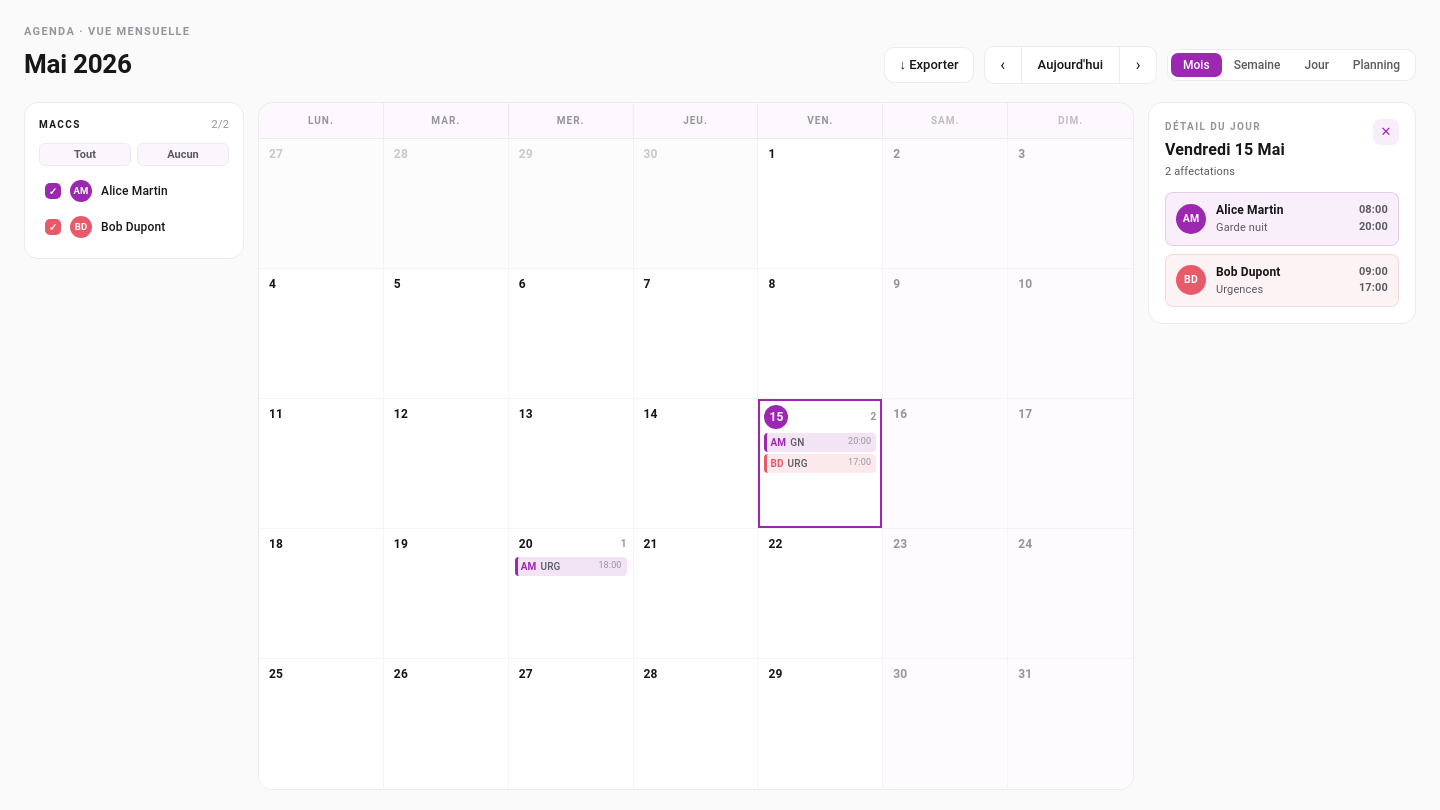
Scenario: MonthCalendar — sidebar MACCs › 'Tout' réactive tous les MACCs
This screenshot has width=1440, height=810.
Click the button "Aucun" at {"x": 183, "y": 154}, box [137,143,229,166]
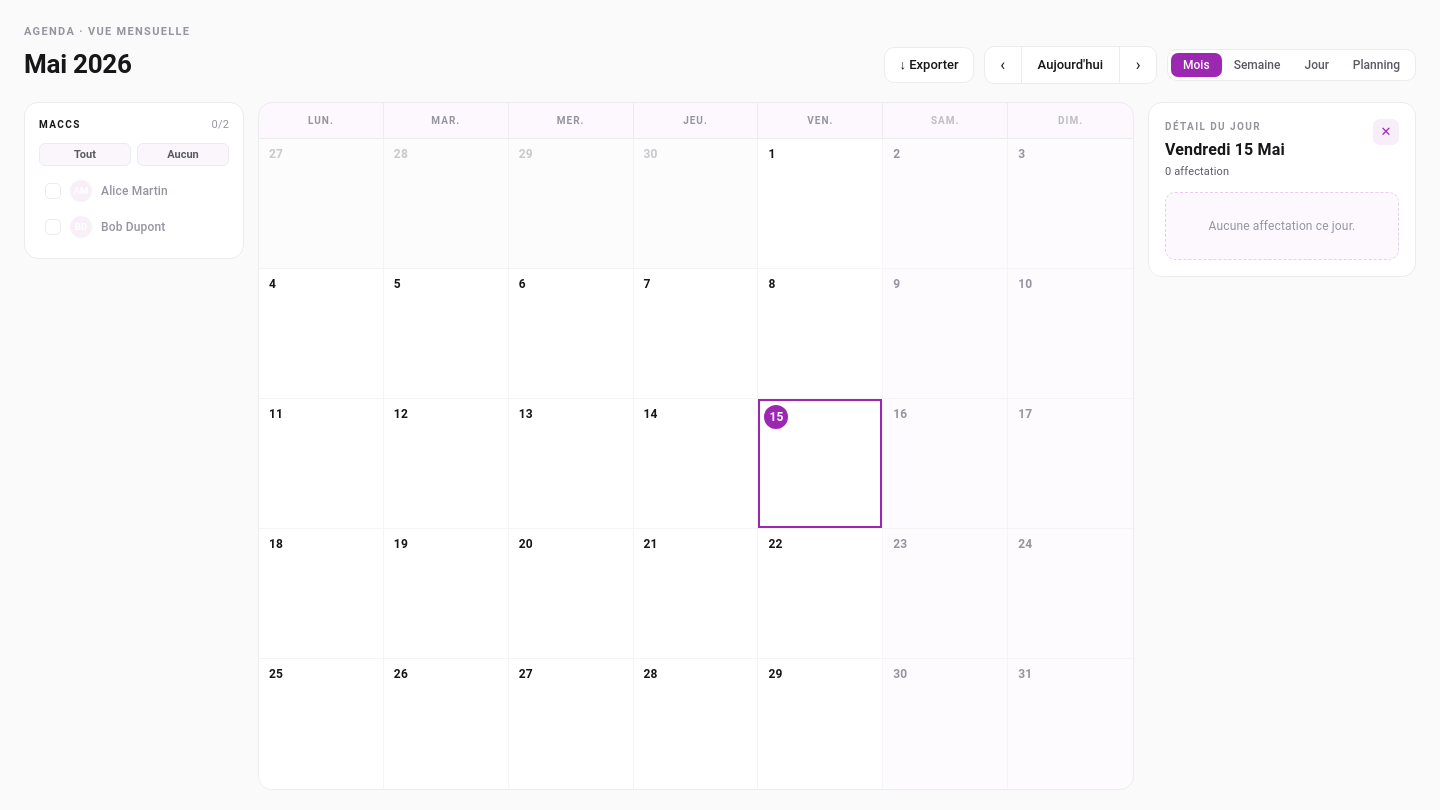
Click the button "Tout" at {"x": 85, "y": 154}, box [39,143,131,166]
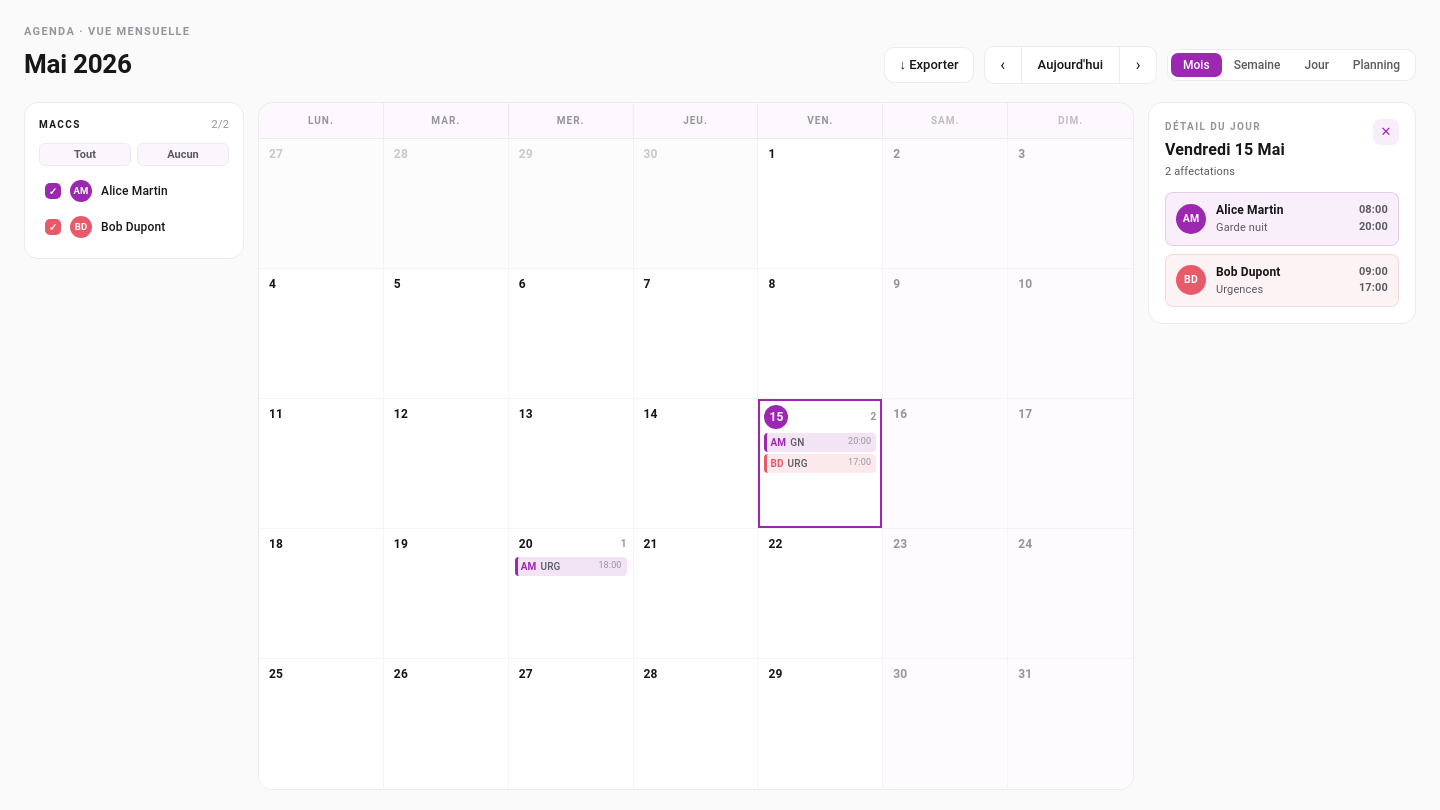
Now the text "2/2" is shown, box [212,116,229,133]
